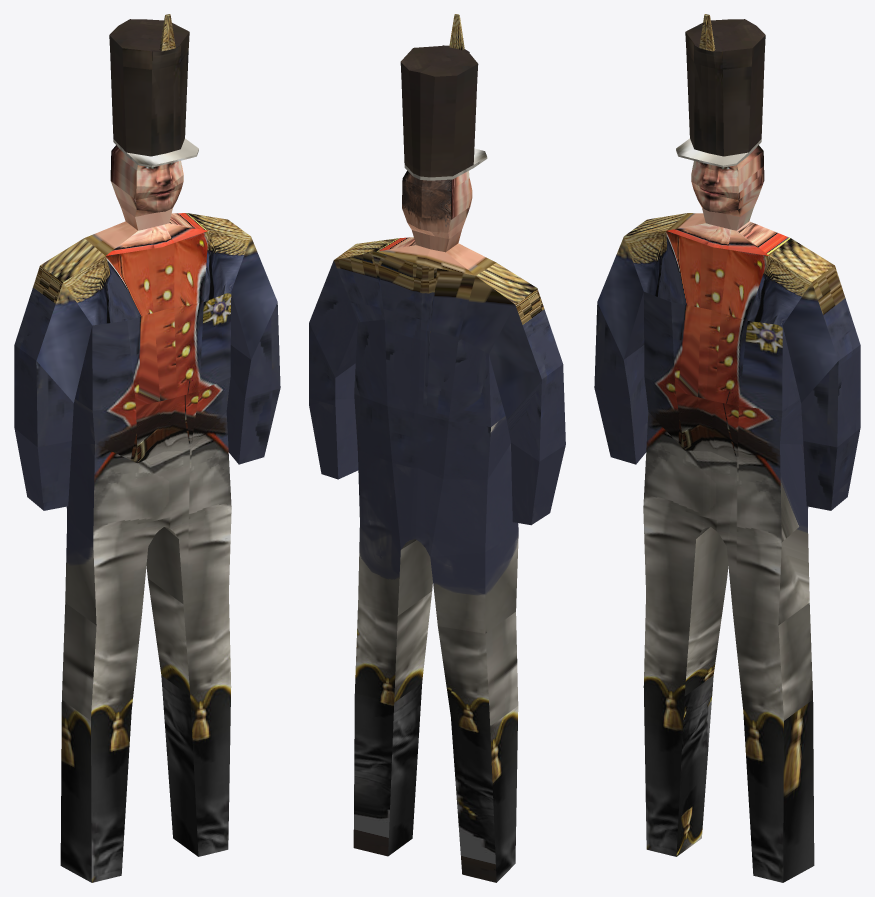
Rendered from soldatutzoomad.glb.
The picture shows the model from 3 angles, left to right: view 1: azimuth 30°, elevation 25°; view 2: azimuth 150°, elevation 25°; view 3: azimuth 330°, elevation 25°; orthographic projection. The views are drawn at different scales.
Parts seen in each view (by area): view 1: Cube; view 2: Cube; view 3: Cube.
Boxes of the visible parts, bbox=[...] form: Cube: bbox=[14, 14, 280, 882]; Cube: bbox=[309, 14, 565, 882]; Cube: bbox=[594, 14, 860, 882].
Size of the model in its own units: 2.43 by 8.19 by 0.8651.
1 material, 1 textured.
